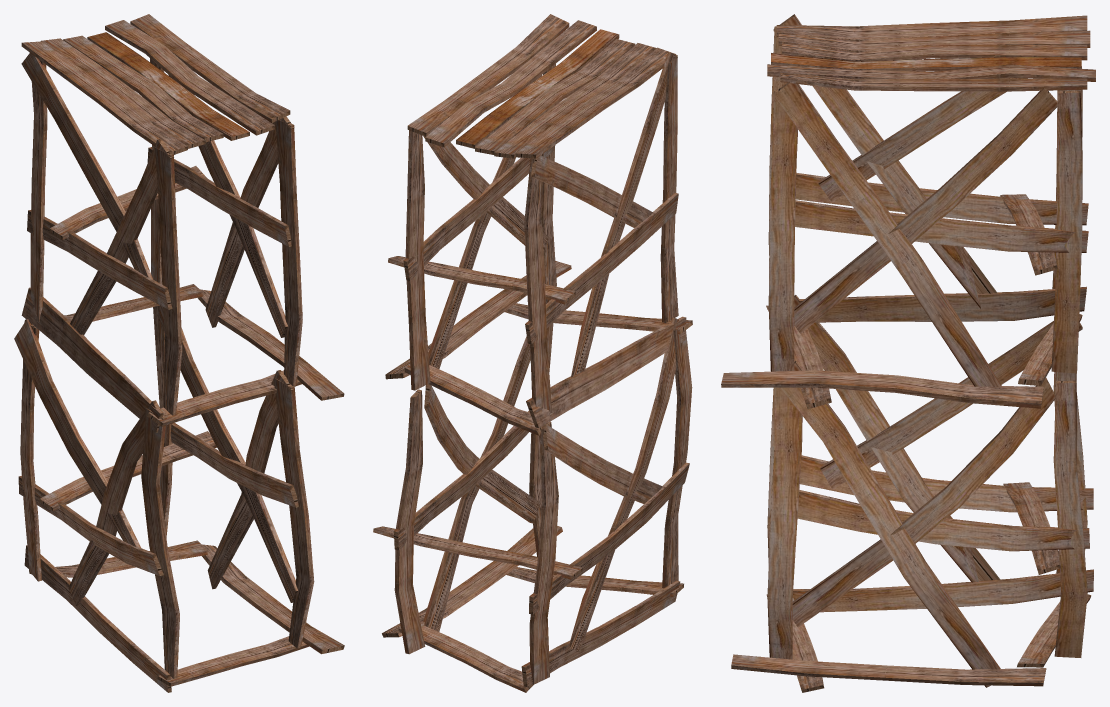
The model's file is Platform01.FBX.
The picture shows the model from 3 angles, left to right: view 1: azimuth 30°, elevation 25°; view 2: azimuth 150°, elevation 25°; view 3: azimuth 270°, elevation 25°; orthographic projection. The views are drawn at different scales.
Parts seen in each view (by area): view 1: Box001; view 2: Box001; view 3: Box001.
Part boxes in pixels (x1,y1,x2,y2): Box001: (14, 14, 344, 692); Box001: (373, 14, 692, 692); Box001: (721, 14, 1095, 692).
Bounding box in the file's own units: 1.51 × 4.26 × 2.41.
Materials: 1 (1 with a texture image).
